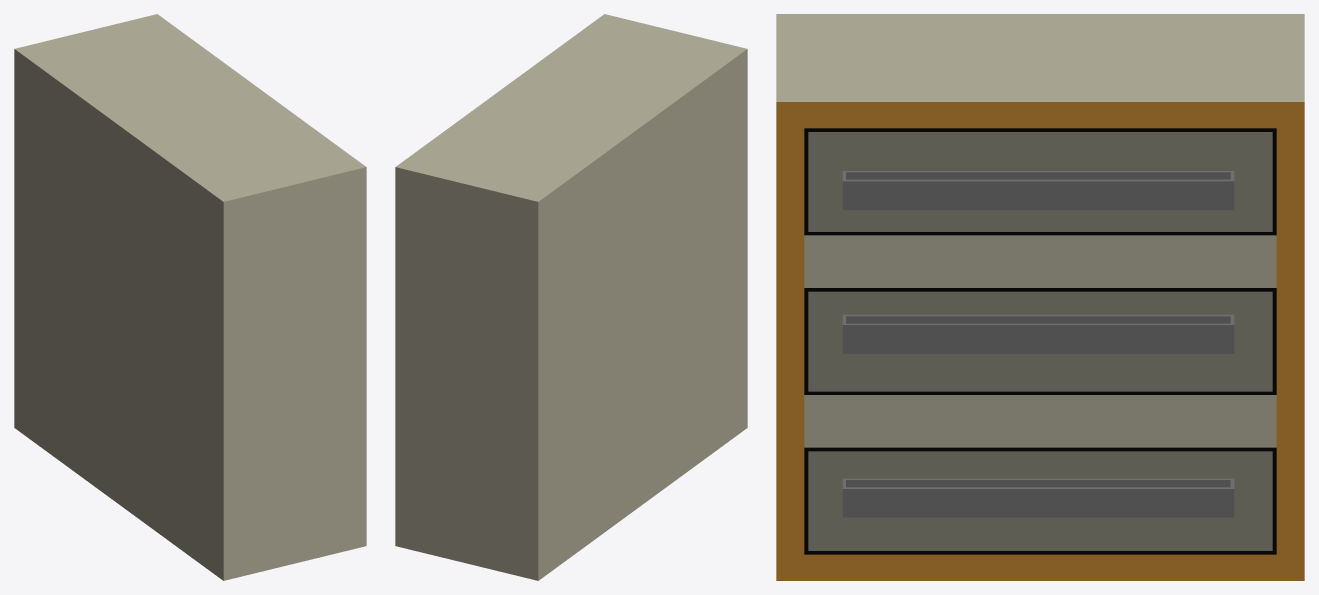
File: FilingCabinentBig.glb
The picture shows the model from 3 angles, left to right: view 1: azimuth 30°, elevation 25°; view 2: azimuth 150°, elevation 25°; view 3: azimuth 270°, elevation 25°; orthographic projection. The views are drawn at different scales.
Parts seen in each view (by area): view 1: Cube; view 2: Cube; view 3: Cube, Cube.001.
Part boxes in pixels (left/top/right/bottom): Cube: left=14, top=14, right=366, bottom=580; Cube: left=395, top=14, right=747, bottom=580; Cube: left=776, top=14, right=1304, bottom=580; Cube.001: left=842, top=171, right=1234, bottom=517.
Size of the model in its own units: 0.882 by 2 by 2.
